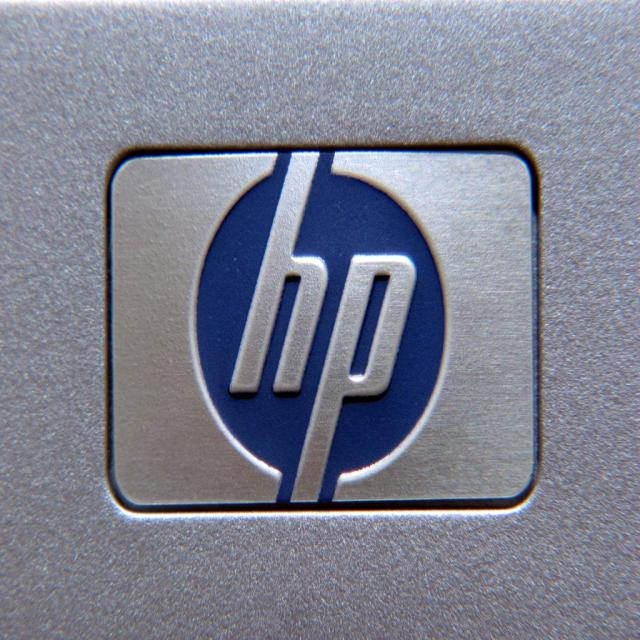HP: (107, 145, 537, 509)
